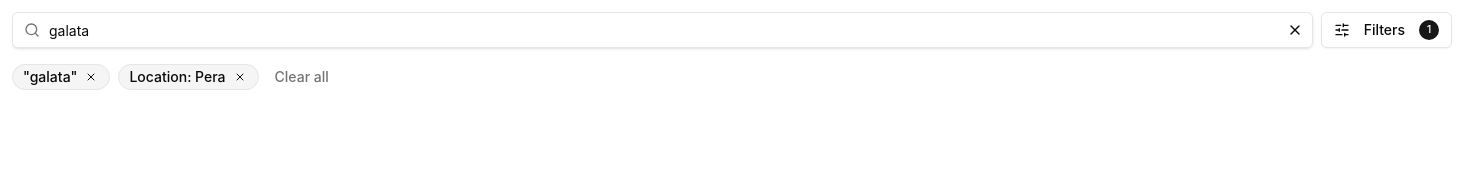
Test: SearchFilter › removing a chip removes it from the active filters
Check: the text "\"galata\"" is shown, box [23, 68, 77, 85]
Check: the text "Location: Pera" is shown, box [129, 68, 226, 85]
Click the button named "Remove filter: \"galata\"" at (91, 77), box [83, 69, 99, 85]
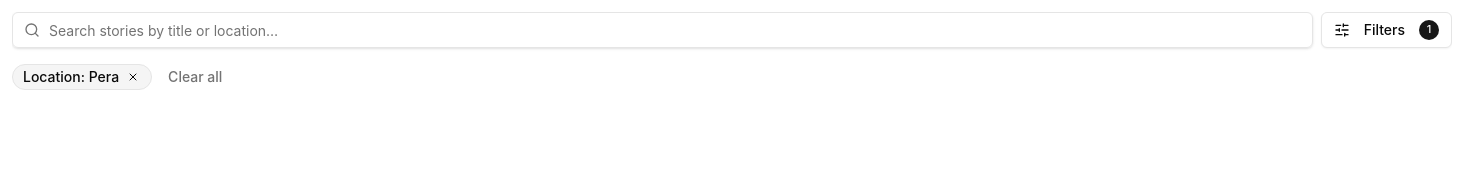
Check: the text "Location: Pera" is shown, box [23, 68, 119, 85]
Check: the text "\"galata\"" is gone
